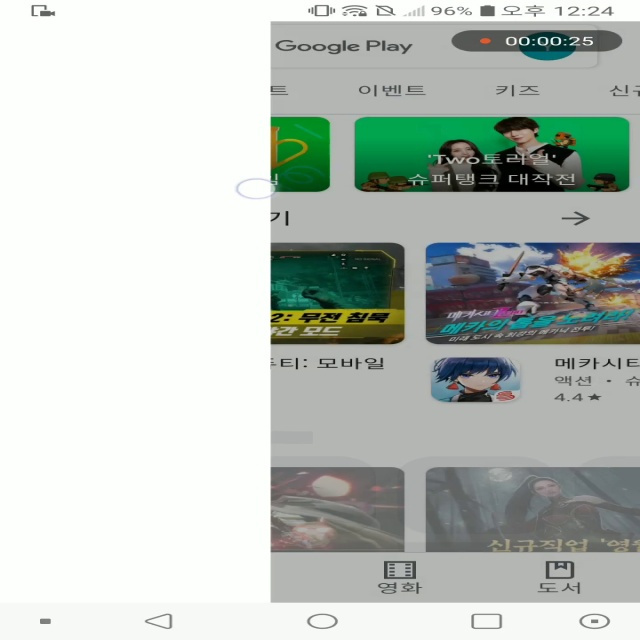Cursor: (234, 178, 279, 200)
